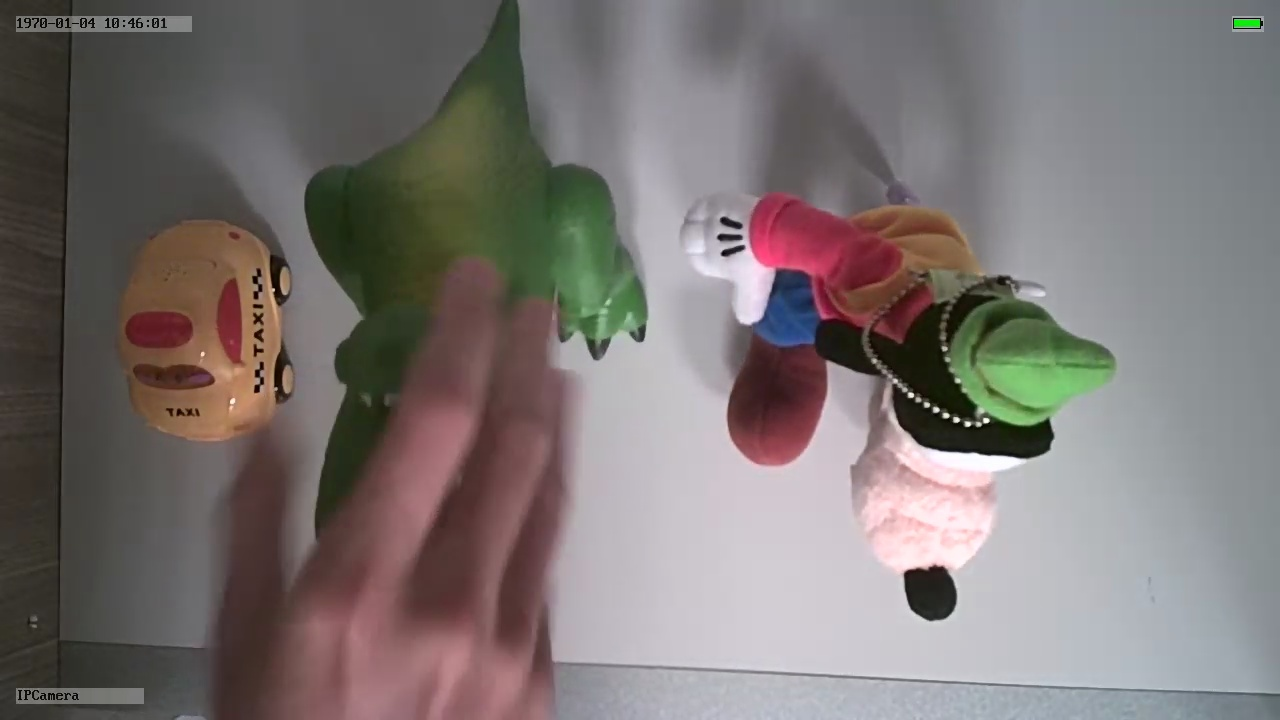car: (111, 209, 296, 443)
goofy: (678, 181, 1119, 626)
